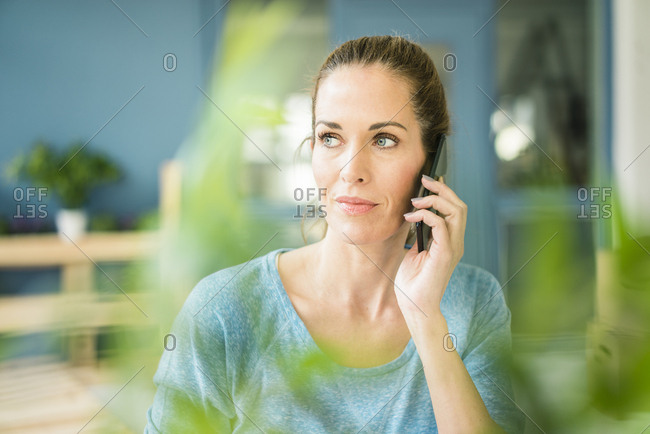phone: (402, 127, 470, 261)
talk: (308, 116, 478, 303)
